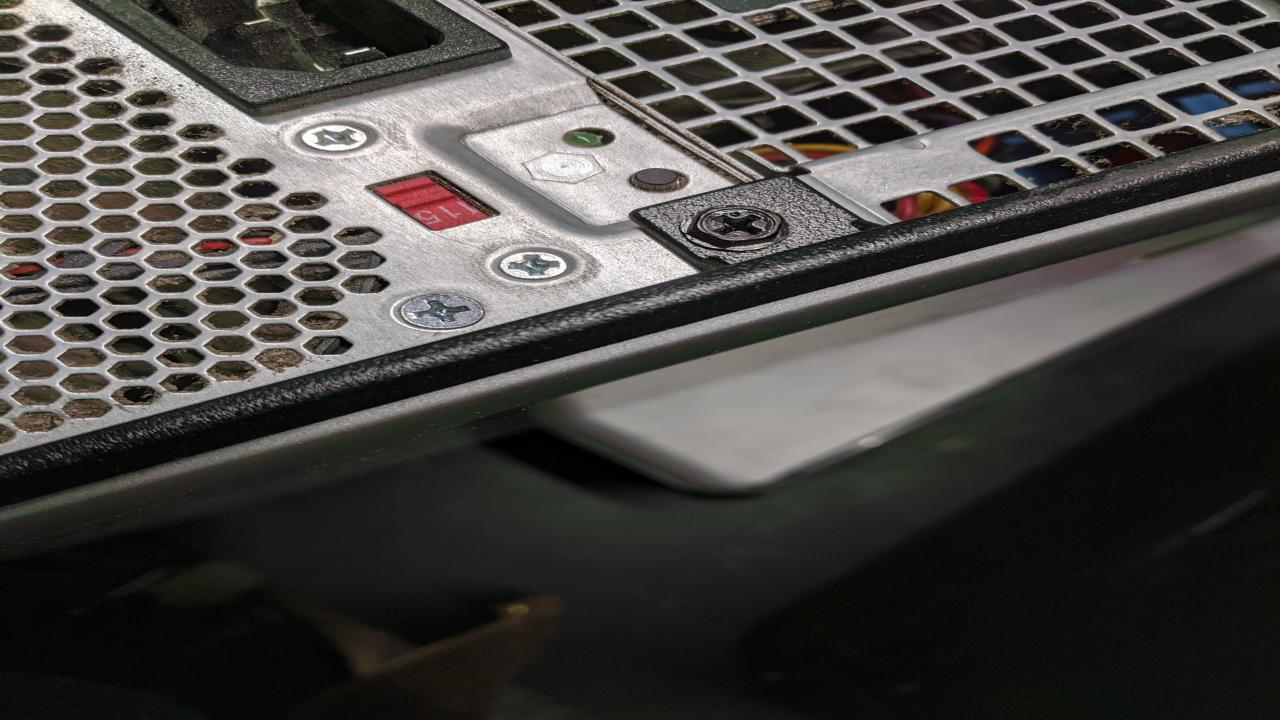CRS: (686, 206, 789, 251), (290, 122, 384, 155), (397, 294, 487, 328), (492, 247, 578, 282)
